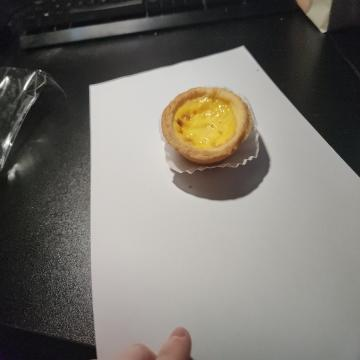EggTart: (162, 86, 250, 168)
